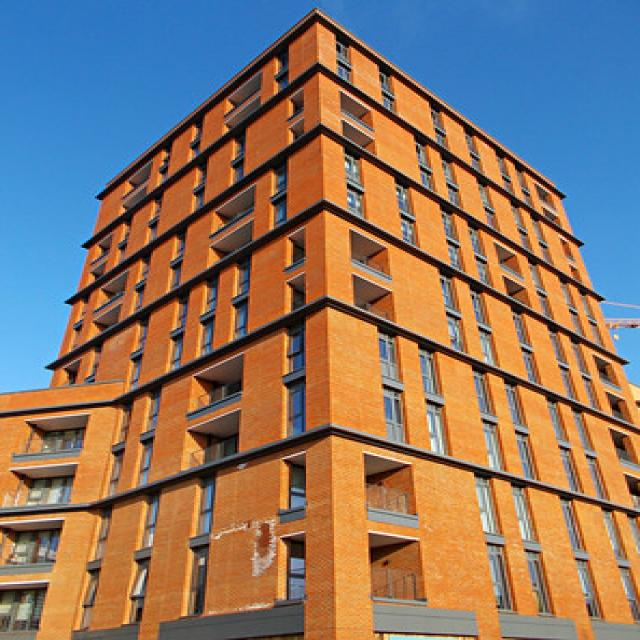Normal_building: (45, 6, 640, 640)
